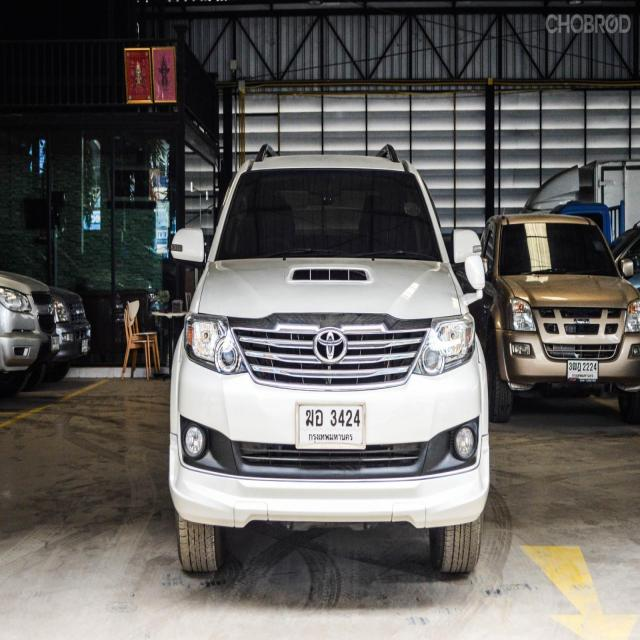license_plate: (295, 401, 368, 449)
